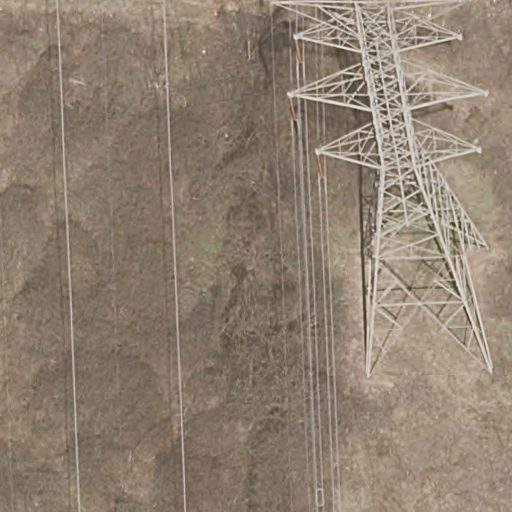TT: (273, 1, 493, 379)
